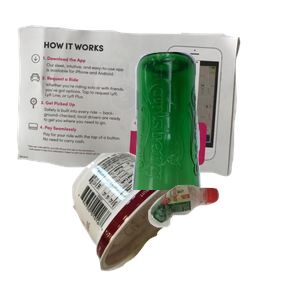glass: (129, 49, 300, 229)
paper: (14, 22, 247, 191)
plastic: (146, 182, 300, 300)
trash: (70, 149, 254, 300)
